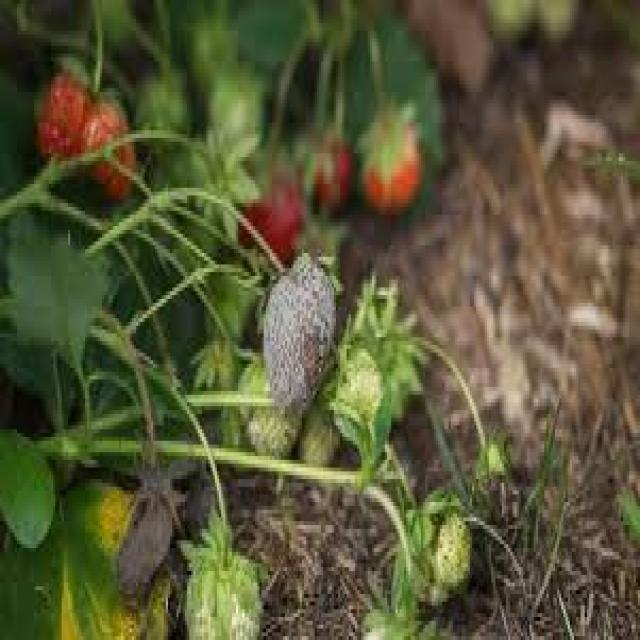Moho gris: (255, 236, 341, 428), (119, 454, 179, 602)
